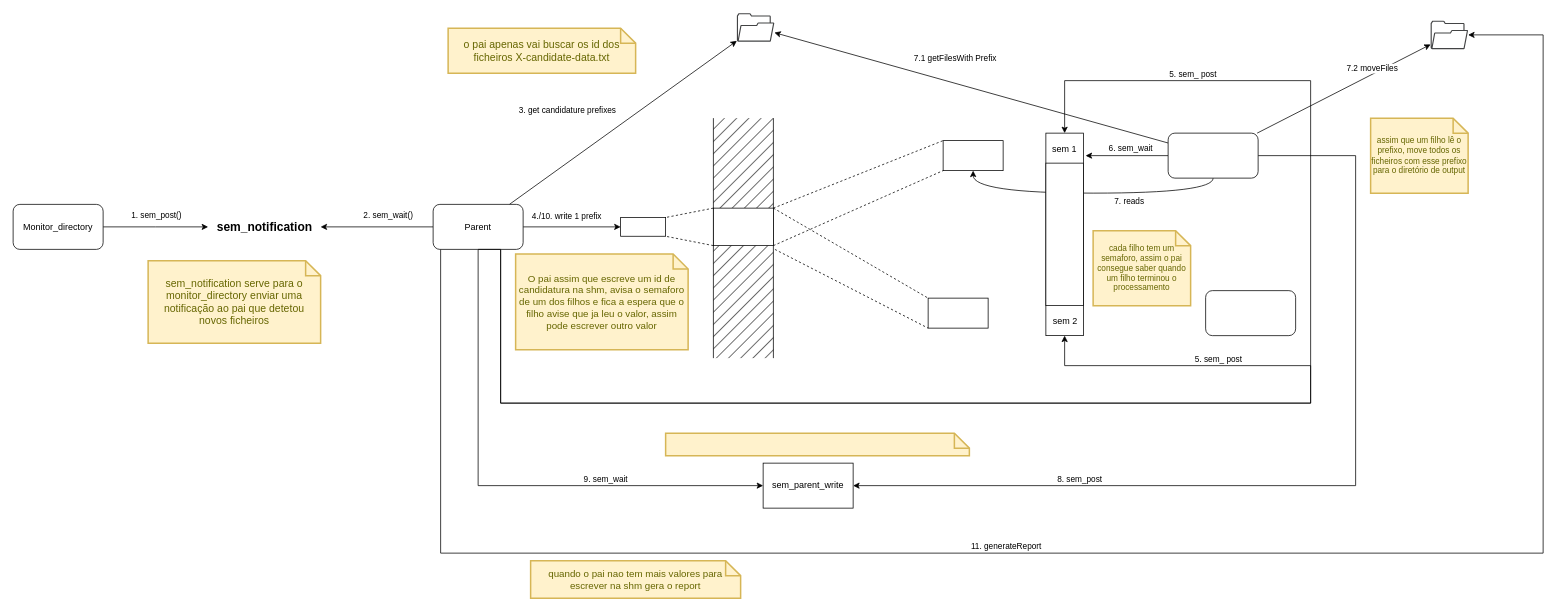
Some shapes in this 1562 by 611 pixel diagram are drawn without their labels. Here are the shapes that lost their labels. From the top down, the centre of each, then its label:
At pixel 755 27: "input".
At pixel 1449 34: "output".
At pixel 1212 155: "Child 1".
At pixel 1250 313: "Child 2".
At pixel 817 444: "semaforo para o pai saber que pode escrever um novo valor".
